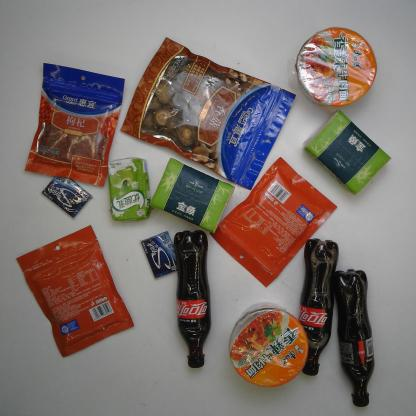Dried Food: (118, 34, 298, 191)
Dried Fruit: (207, 155, 342, 287), (13, 223, 139, 363), (23, 62, 127, 188)
Drink: (166, 228, 219, 373), (335, 262, 383, 409), (294, 234, 340, 374)
Gum: (38, 172, 92, 219), (139, 226, 183, 283)
Instant Noodles: (227, 301, 313, 385), (290, 28, 379, 108)
Milk: (105, 156, 154, 225)
Tissue: (300, 110, 393, 195), (142, 156, 238, 236)
